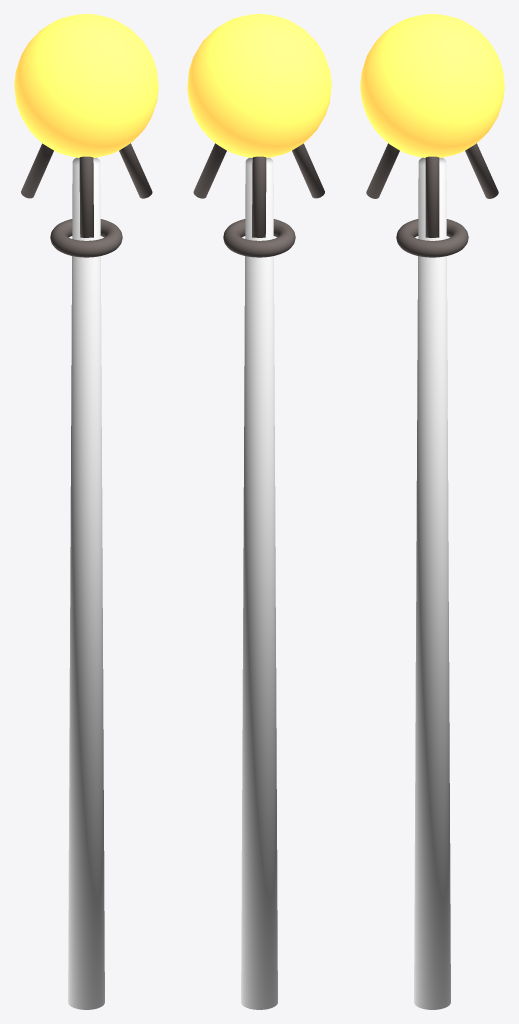
File: asa_3.glb
3 renders of one model, left to right at view 1: azimuth 30°, elevation 25°; view 2: azimuth 150°, elevation 25°; view 3: azimuth 270°, elevation 25°, orthographic.
Parts seen in each view (by area): view 1: Cone, Sphere, Torus, Cone.003, Cone.001, Cone.002; view 2: Cone, Sphere, Torus, Cone.002, Cone.001, Cone.003; view 3: Cone, Sphere, Torus, Cone.001, Cone.002, Cone.003.
Part boxes in pixels (x1,y1,x2,y2): Cone: (68, 157, 104, 1009); Sphere: (14, 14, 158, 157); Torus: (50, 219, 122, 257); Cone.003: (79, 156, 93, 237); Cone.001: (119, 143, 152, 198); Cone.002: (21, 143, 53, 198); Cone: (241, 157, 277, 1009); Sphere: (187, 14, 331, 157); Torus: (223, 219, 295, 257); Cone.002: (252, 156, 266, 237); Cone.001: (193, 143, 226, 198); Cone.003: (292, 143, 324, 198); Cone: (414, 157, 450, 1009); Sphere: (360, 14, 504, 157); Torus: (396, 219, 468, 257); Cone.001: (425, 156, 439, 237); Cone.002: (465, 143, 498, 198); Cone.003: (366, 143, 399, 198).
Bounding box in the file's own units: 0.318 × 2.34 × 0.312.
